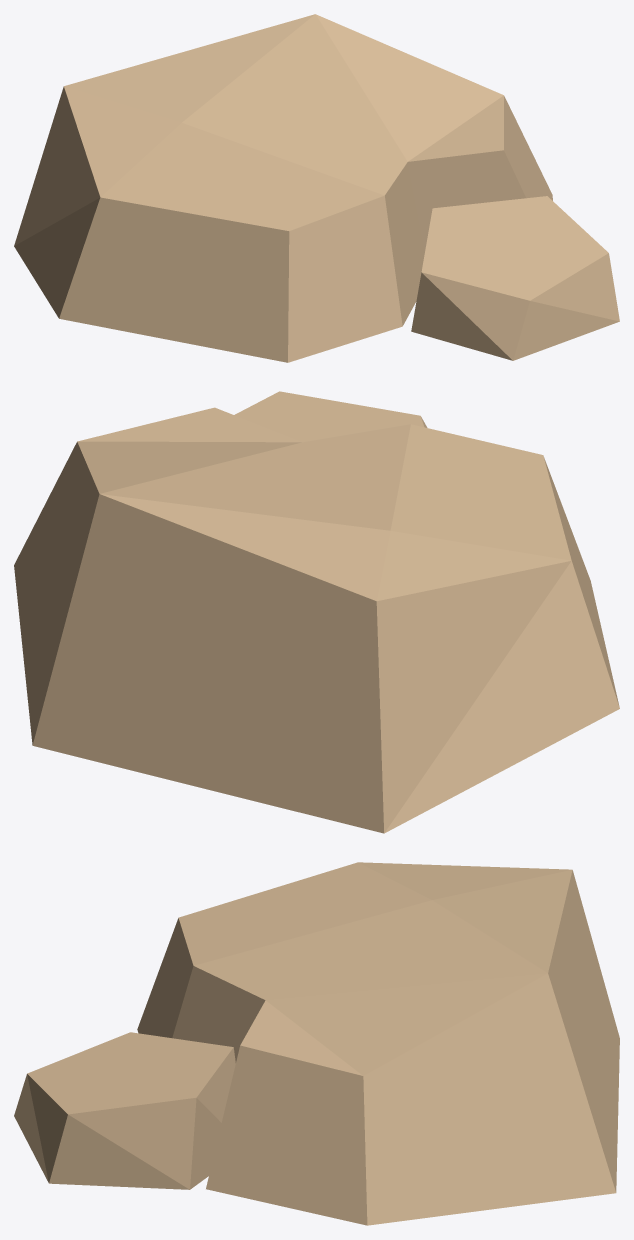
The model's file is flat.fbx.
3 renders of one model, top to bottom at view 1: azimuth 30°, elevation 25°; view 2: azimuth 150°, elevation 25°; view 3: azimuth 270°, elevation 25°, orthographic. The views are drawn at different scales.
Parts seen in each view (by area): view 1: stone_flat; view 2: stone_flat; view 3: stone_flat.
Boxes of the visible parts, bbox=[...] form: stone_flat: bbox=[14, 14, 619, 362]; stone_flat: bbox=[14, 391, 619, 833]; stone_flat: bbox=[14, 862, 619, 1225].
Size of the model in its own units: 232 by 88.23 by 226.
